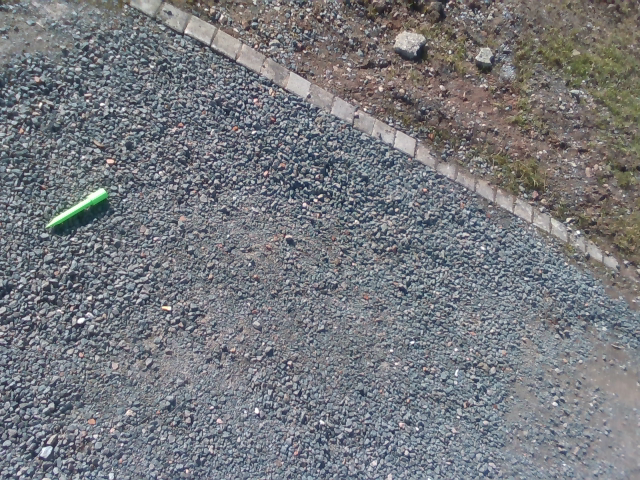Probe: (43, 184, 112, 232)
